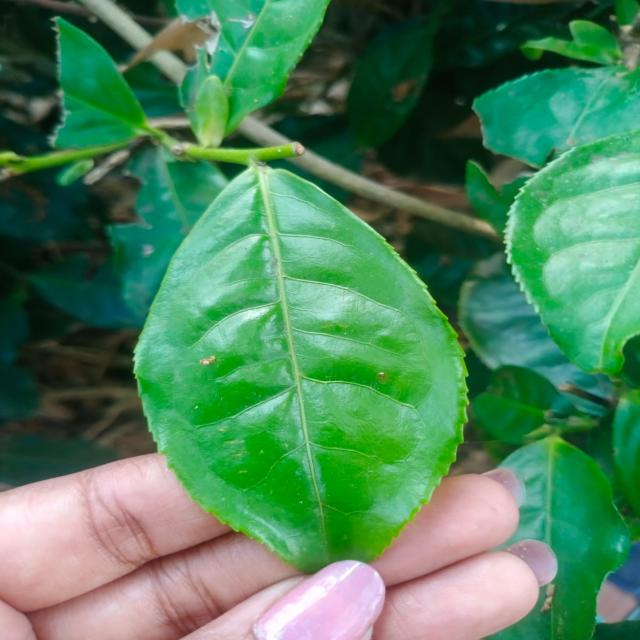Category D 7+ days, Not for Tea: (99, 156, 478, 592)
